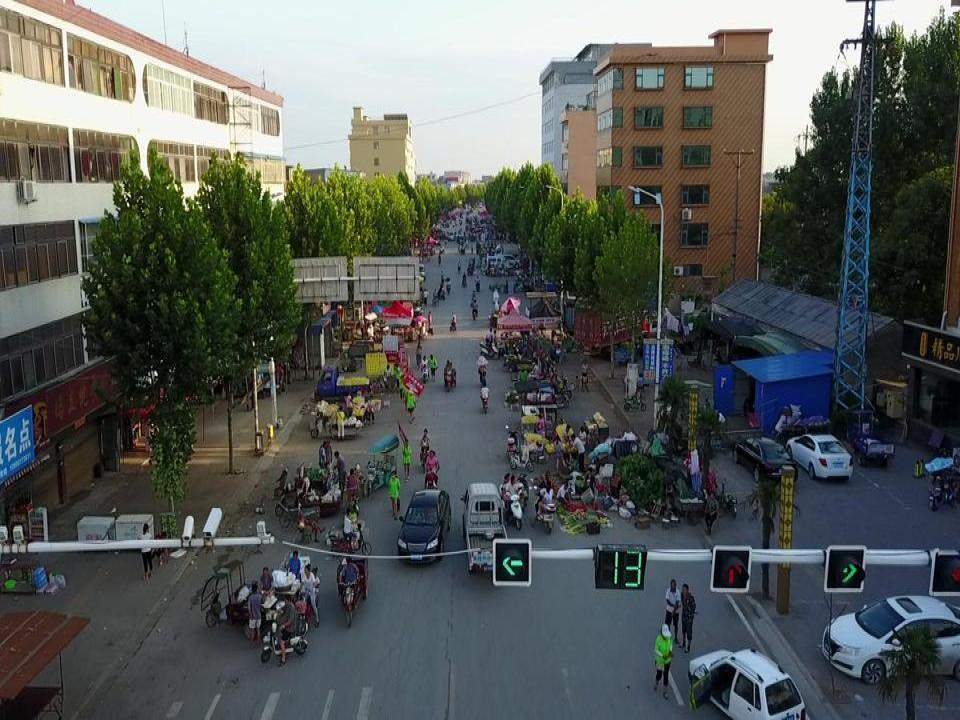car: (821, 595, 960, 685), (687, 646, 808, 720), (396, 488, 452, 563), (732, 436, 798, 487), (785, 432, 853, 481), (413, 264, 426, 281)
truck: (573, 291, 659, 361), (459, 481, 513, 575)
van: (486, 256, 510, 268)
